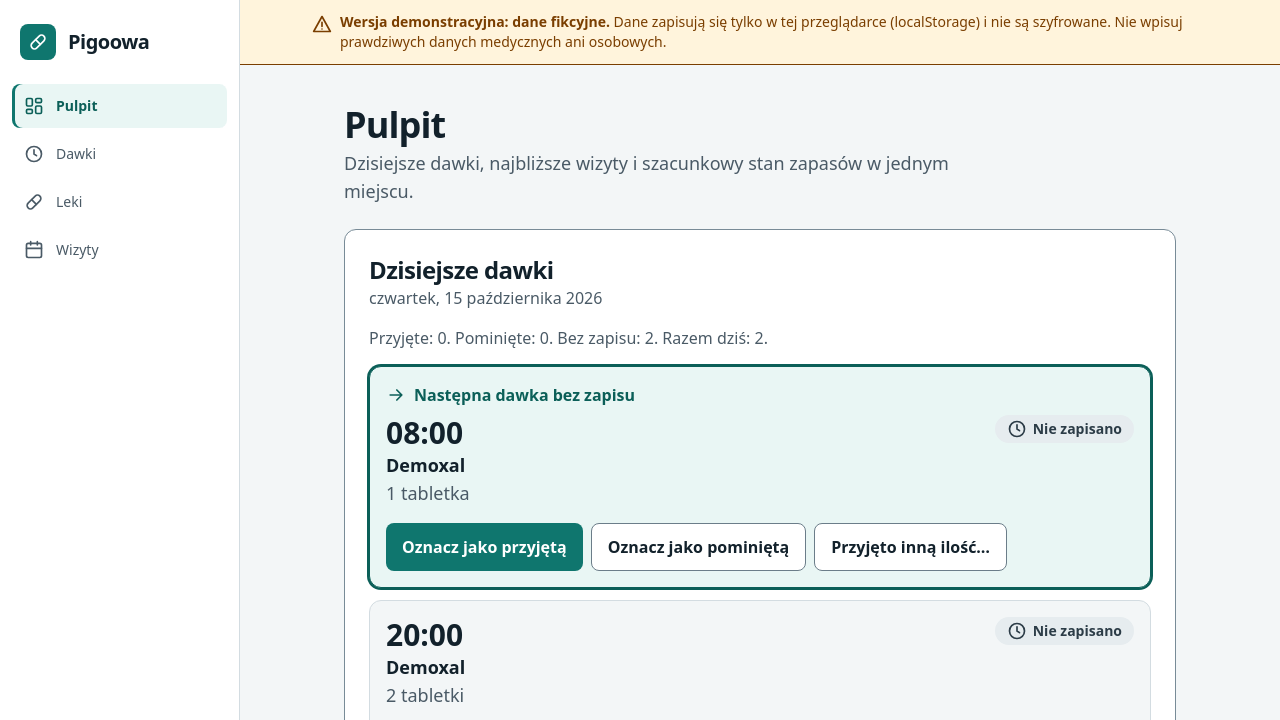
Test: the usual way of recording a dose is not made harder › "Oznacz jako przyjętą" still records the plan in one tap, with no dialog and no new field
The width and height of the screenshot is (1280, 720).
Click the button with aria-label "Oznacz jako przyjętą: Demoxal, 08:00": [484, 547] box x1=386 y1=523 x2=583 y2=571
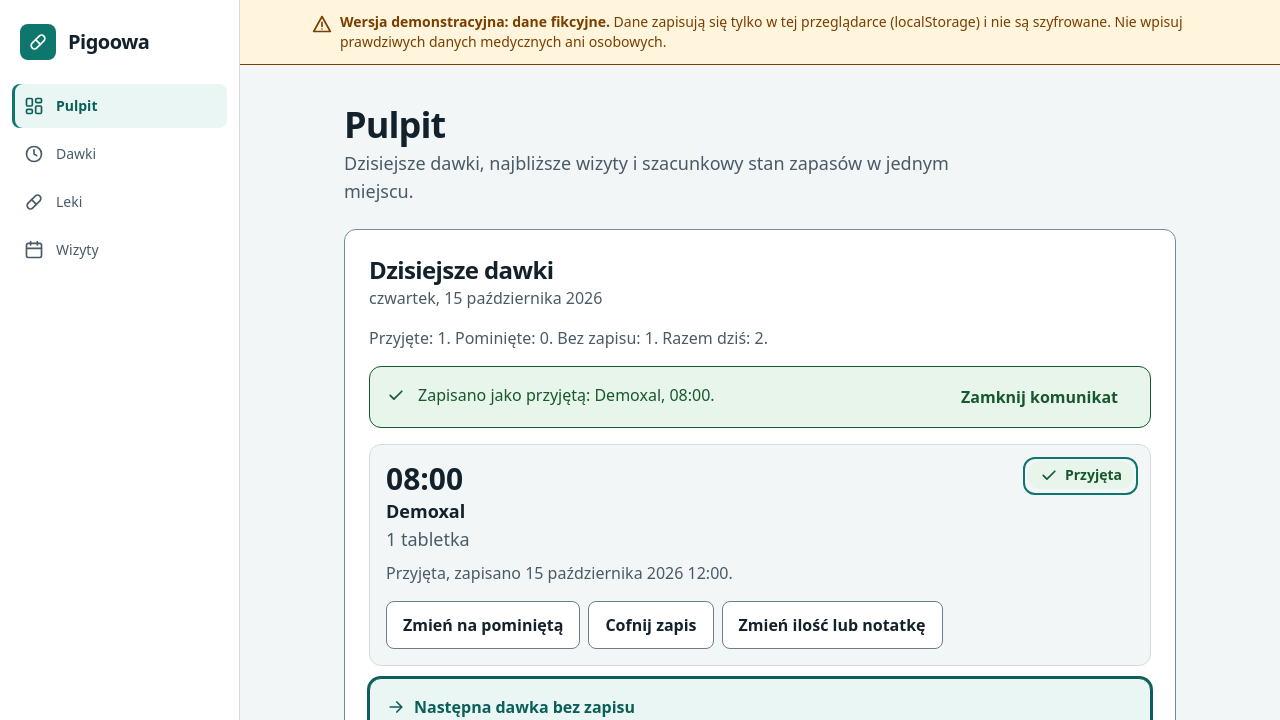
Check: the text "Zapisano jako przyjętą: Demoxal, 08:00." is shown, box x1=418 y1=384 x2=715 y2=406
